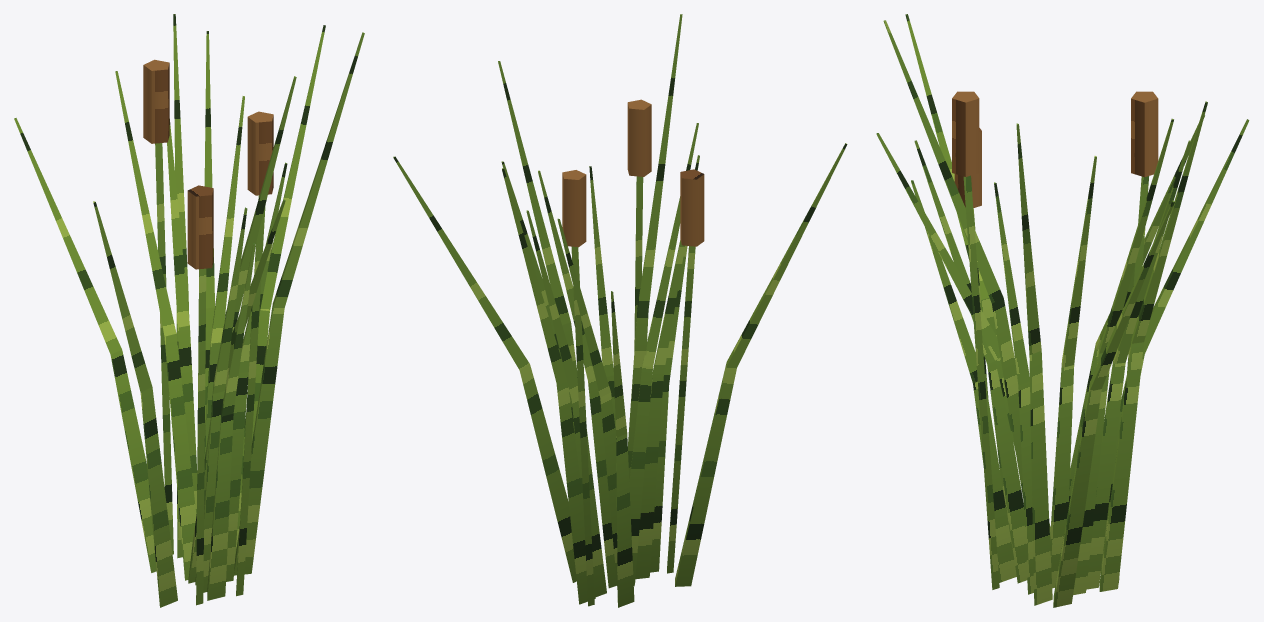
Rendered from lake.reeds.glb.
3 views of the same model, side by side, from view 1: azimuth 30°, elevation 25°; view 2: azimuth 150°, elevation 25°; view 3: azimuth 270°, elevation 25° (orthographic). The views are drawn at different scales.
Parts seen in each view (by area): view 1: kit_reeds, kit_cattails; view 2: kit_reeds, kit_cattails; view 3: kit_reeds, kit_cattails.
Part boxes in pixels (bbox=[...]): kit_reeds: bbox=[14, 14, 364, 607]; kit_cattails: bbox=[143, 59, 273, 605]; kit_reeds: bbox=[393, 14, 847, 607]; kit_cattails: bbox=[562, 99, 704, 606]; kit_reeds: bbox=[876, 14, 1249, 607]; kit_cattails: bbox=[952, 91, 1158, 589].
Size of the model in its own units: 1.04 by 1.53 by 0.907.
Materials: 2 (2 with a texture image).
